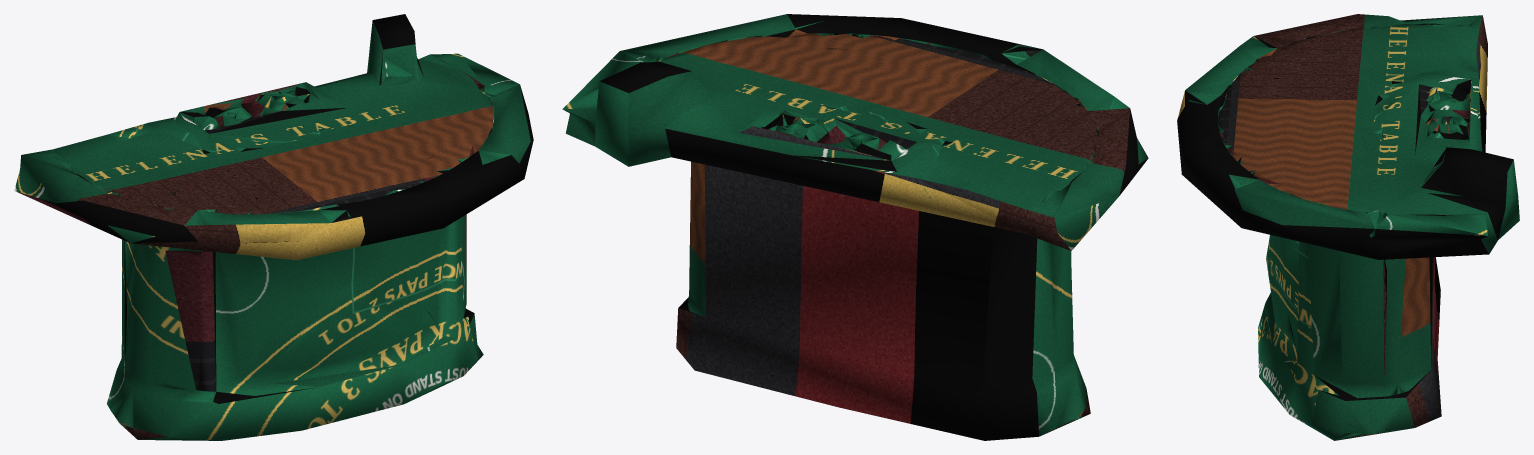
The model's file is SM_CasinoBlackjackTable.fbx.
3 renders of one model, left to right at view 1: azimuth 30°, elevation 25°; view 2: azimuth 150°, elevation 25°; view 3: azimuth 270°, elevation 25°, orthographic. The views are drawn at different scales.
Parts seen in each view (by area): view 1: Model; view 2: Model; view 3: Model.
Part boxes in pixels (x1,y1,x2,y2): Model: (14, 14, 533, 440); Model: (562, 14, 1148, 440); Model: (1177, 14, 1519, 440).
Size of the model in its own units: 1.49 by 0.8662 by 0.9714.
